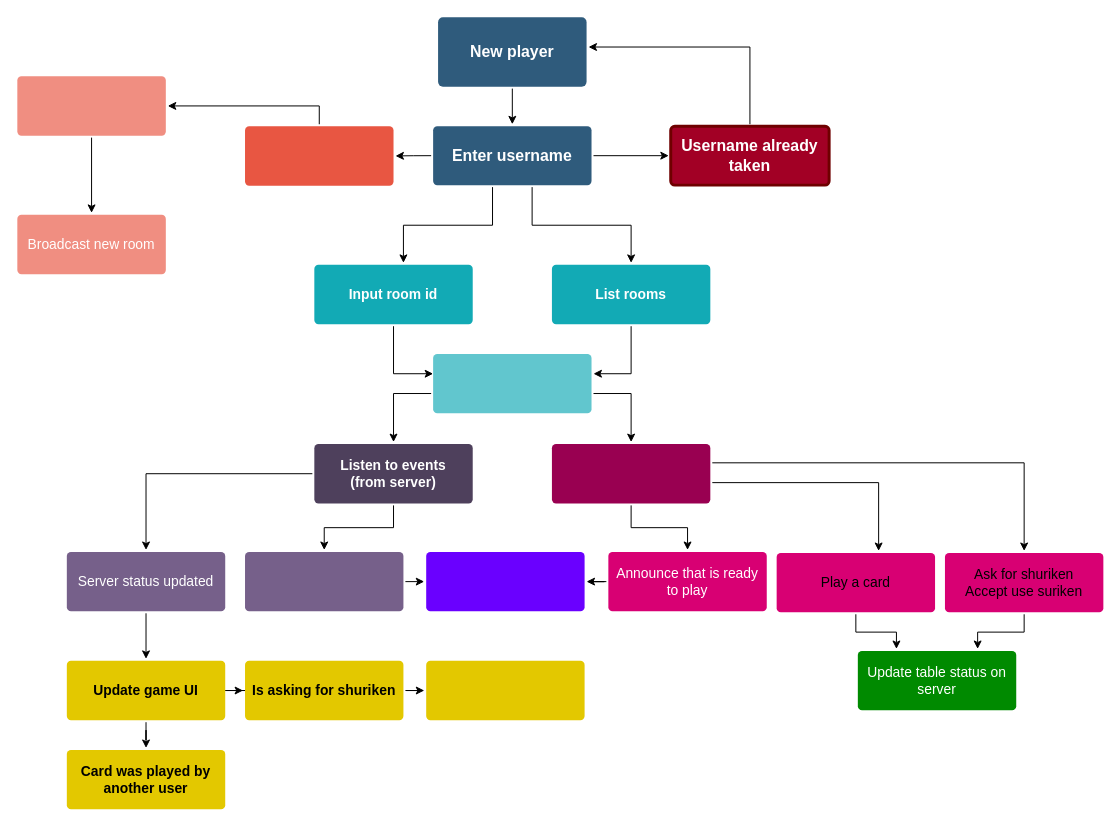
Image size: 1120x826. Some labels were removed from this diagram. Here are the shapes that lost their labels. From the top down, the centre of each, then its label:
At point 91,105: "Generate room id".
At point 319,155: "Create room".
At point 512,383: "Enter room".
At point 630,473: "Emit events (by client)".
At point 324,581: "Players are ready to play".
At point 505,581: "Start game if all players are ready".
At point 505,690: "Play shuriken if all users accept".
